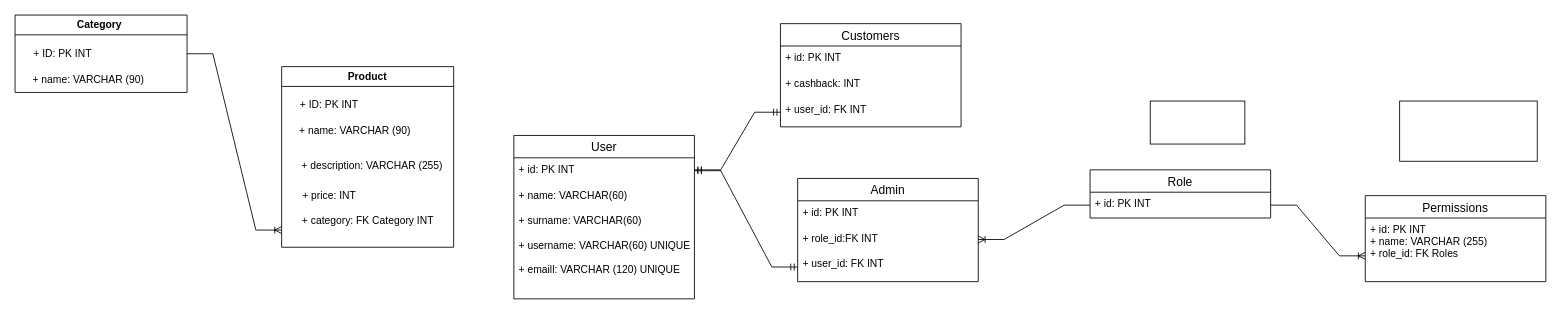
Image size: 1561x316. Some labels were removed from this diagram. Here are the shapes that lost their labels. From the top down, the centre of each, then its label:
At pixel 1197 122: "SUPER_ADMIN MODERATOR MANAGER".
At pixel 1468 130: "GET_USER CHANGE_PASSWORD DELETE_PRODUCT".
